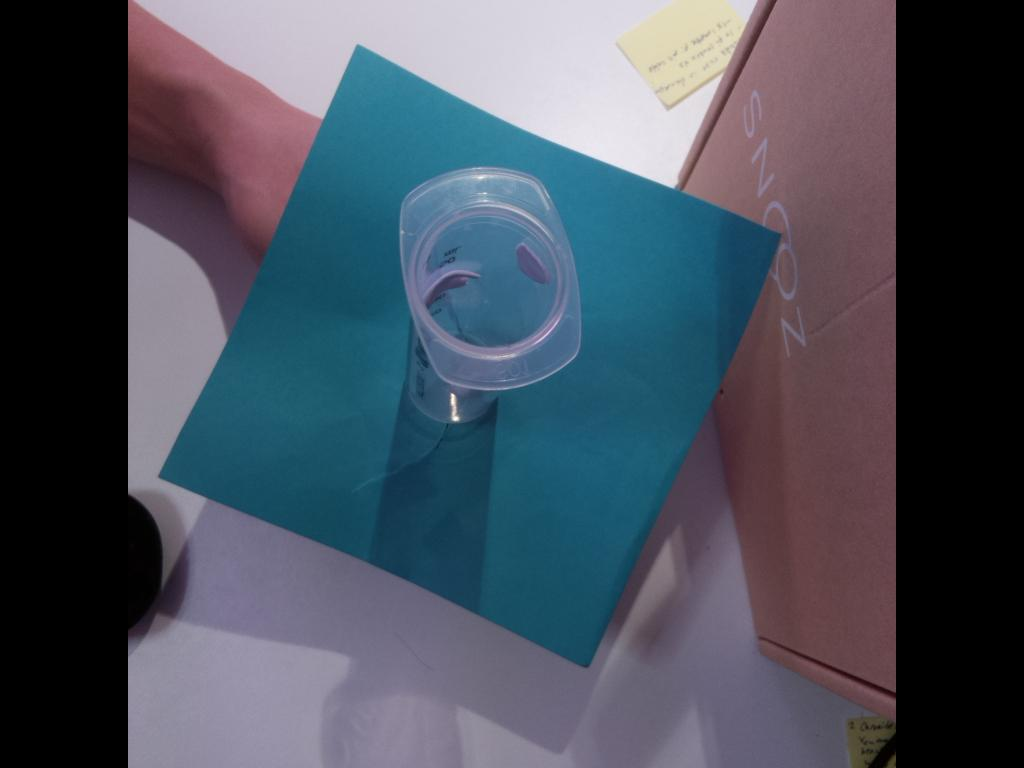dirty: (398, 164, 585, 390)
